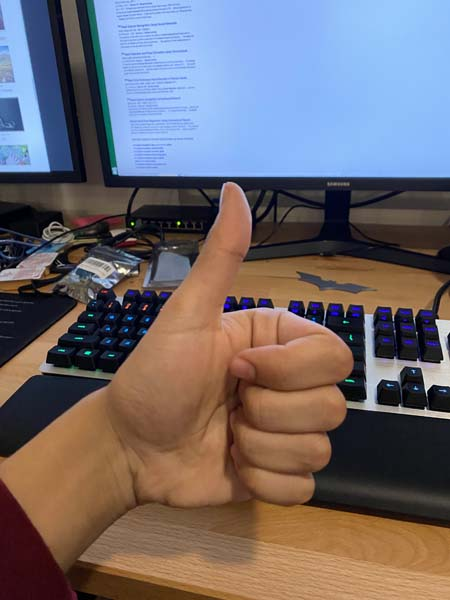Thumbs Up: (97, 172, 368, 535)
